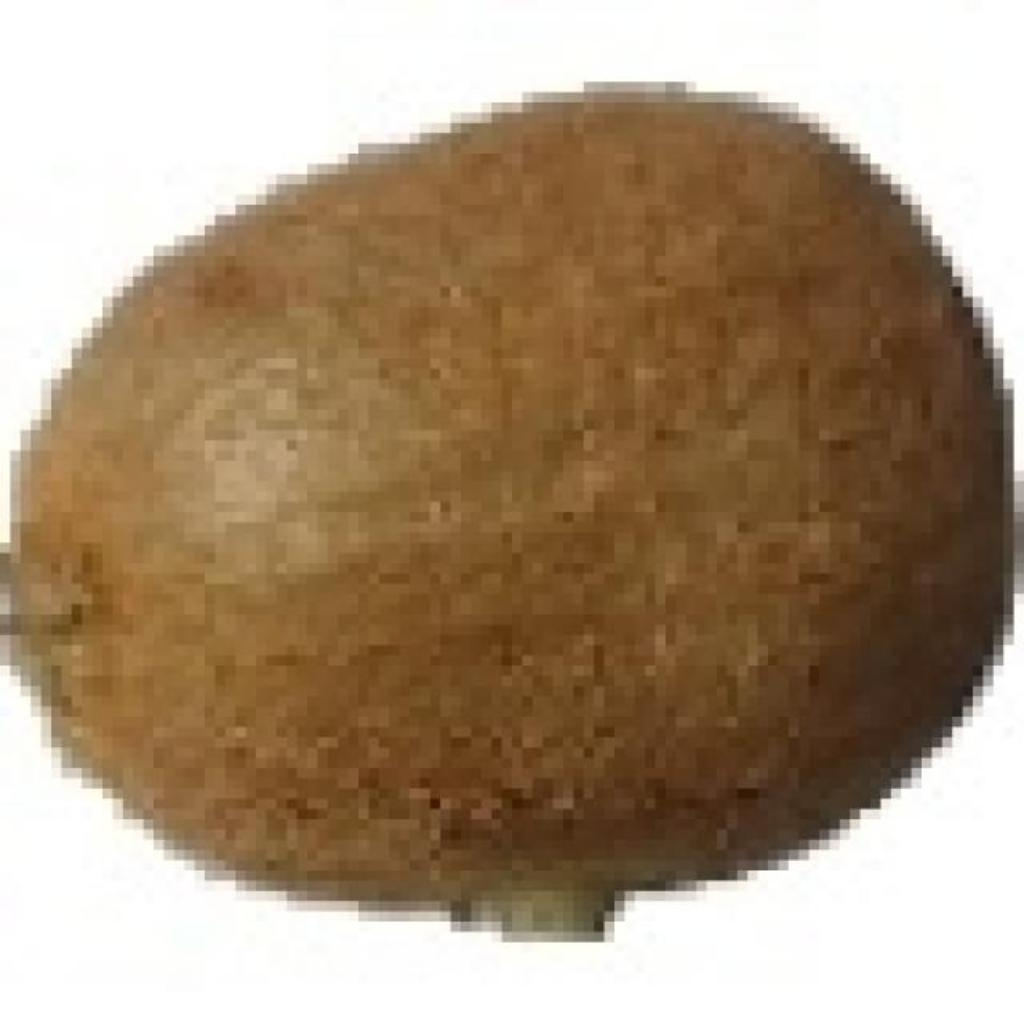kiwi: (10, 82, 993, 911)
